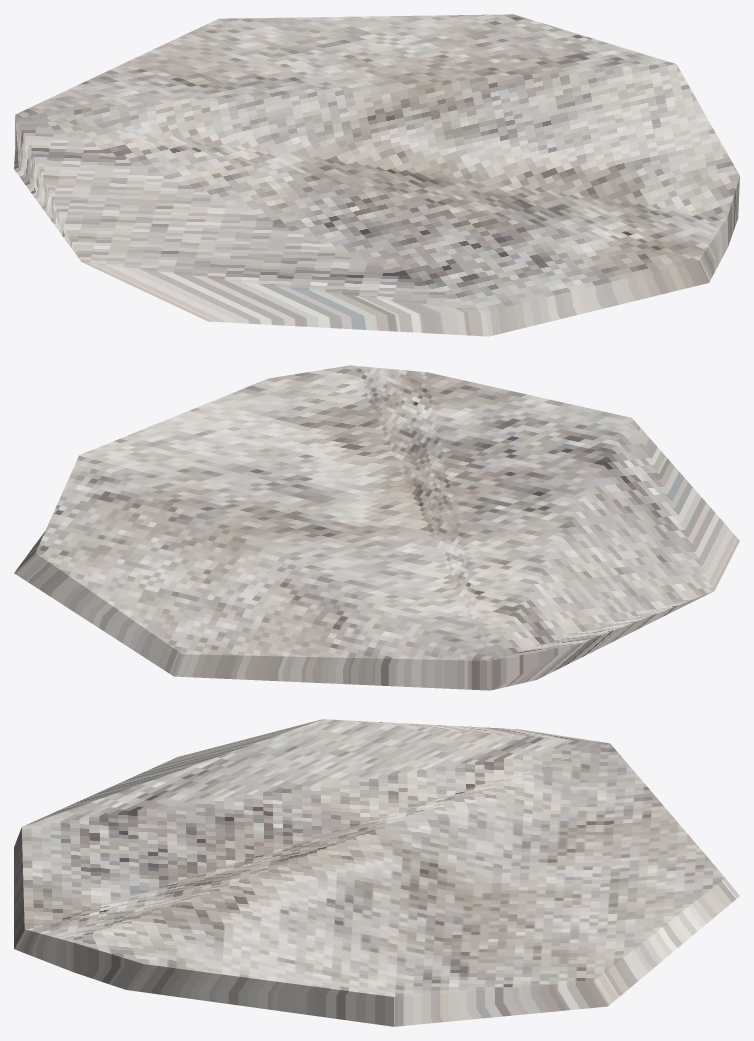
File: pedra2.fbx
The picture shows the model from 3 angles, top to bottom: view 1: azimuth 30°, elevation 25°; view 2: azimuth 150°, elevation 25°; view 3: azimuth 270°, elevation 25°; orthographic projection. The views are drawn at different scales.
Parts seen in each view (by area): view 1: Plane; view 2: Plane; view 3: Plane.
Boxes of the visible parts, bbox=[...] form: Plane: bbox=[14, 14, 739, 336]; Plane: bbox=[14, 365, 739, 690]; Plane: bbox=[14, 719, 739, 1026].
Bounding box in the file's own units: 26.66 × 1.33 × 27.89.
Materials: 1 (1 with a texture image).
